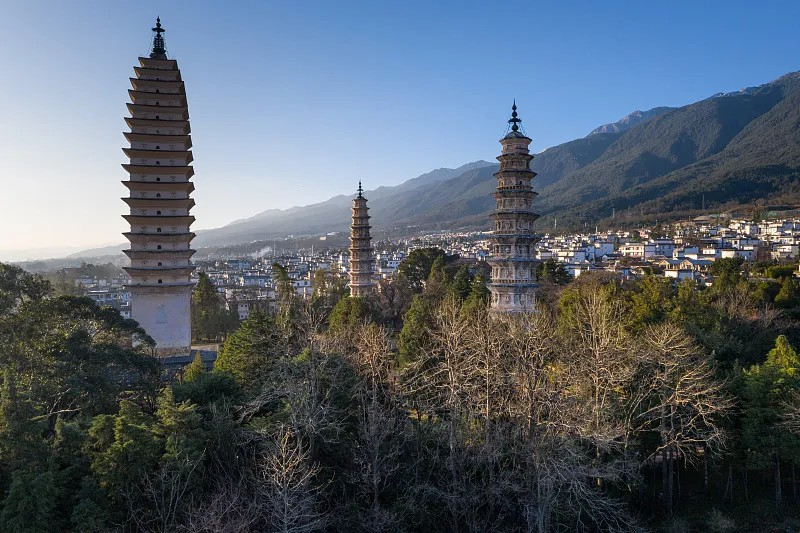ThreePagoda: (122, 14, 196, 359)
